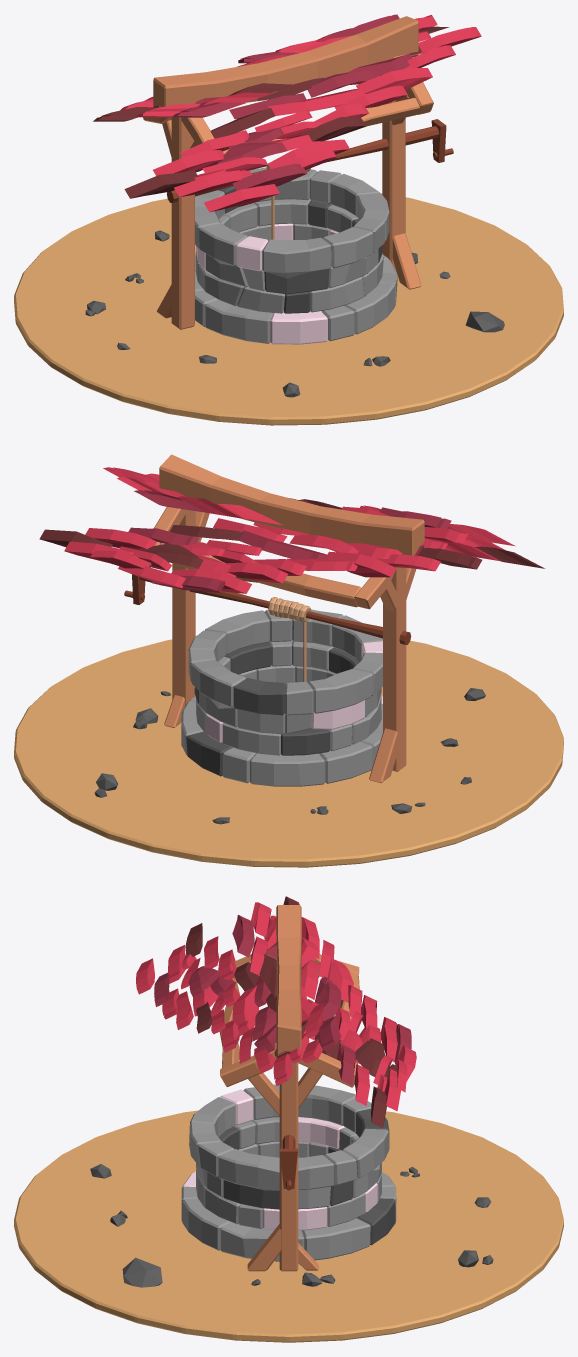
The model's file is pozzo.glb.
3 renders of one model, top to bottom at view 1: azimuth 30°, elevation 25°; view 2: azimuth 150°, elevation 25°; view 3: azimuth 270°, elevation 25°, orthographic.
Parts seen in each view (by area): view 1: Terreno, Pozzo, Plane.024, Struttura, Tegole, Struttura.001, Icosphere.005; view 2: Terreno, Pozzo, Struttura, Tegole, Plane.024, Struttura.001, Cylinder; view 3: Terreno, Pozzo, Tegole, Plane.024, Struttura, Icosphere.005, Struttura.001.
Part boxes in pixels (x1,y1,x2,y2): Terreno: (14, 193, 563, 425); Pozzo: (195, 167, 397, 344); Plane.024: (124, 14, 481, 212); Struttura: (143, 16, 433, 329); Tegole: (93, 26, 449, 121); Struttura.001: (167, 119, 453, 202); Icosphere.005: (465, 311, 504, 332); Terreno: (14, 635, 563, 867); Pozzo: (181, 609, 382, 786); Struttura: (154, 454, 426, 782); Tegole: (39, 506, 482, 593); Plane.024: (103, 467, 545, 568); Struttura.001: (124, 574, 411, 644); Cylinder: (268, 597, 311, 681); Terreno: (14, 1110, 563, 1342); Pozzo: (181, 1084, 396, 1261); Tegole: (232, 896, 416, 1128); Plane.024: (136, 923, 341, 1085); Struttura: (219, 905, 359, 1271); Icosphere.005: (122, 1257, 162, 1287); Struttura.001: (280, 1134, 297, 1190).
Size of the model in its own units: 39.97 by 21.13 by 39.97.
